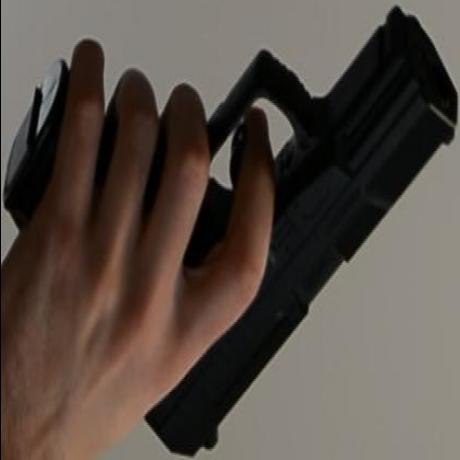1: (0, 44, 278, 460)
weapon: (150, 13, 458, 452)
